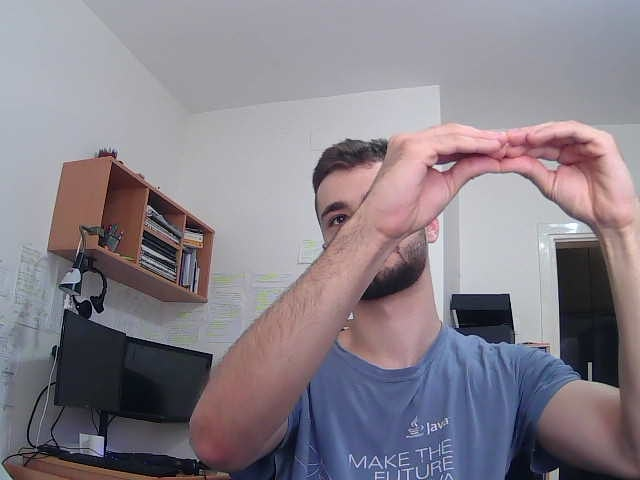b: (364, 103, 638, 244)
